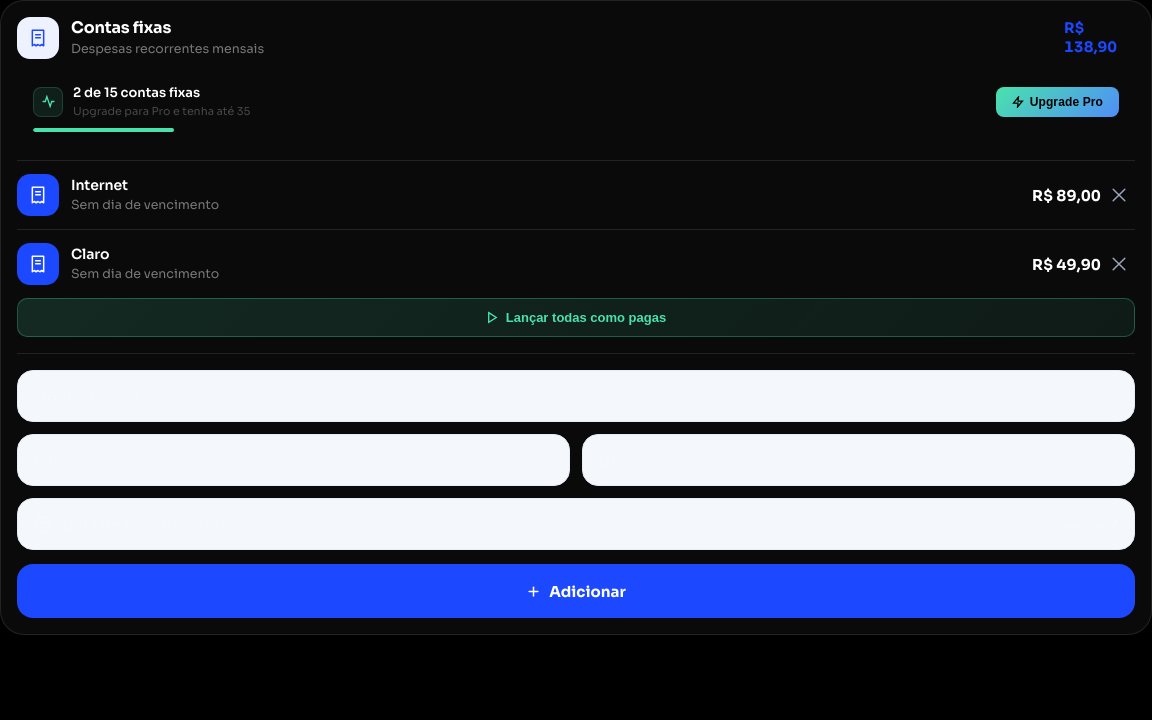
Test case: excluir conta fixa › Esc fecha a confirmação sem remover
expect the text "Claro" is shown: met, box [71,245,109,263]
Click the 1st button named "Remover" at (1119, 195), box [1103,174,1135,216]
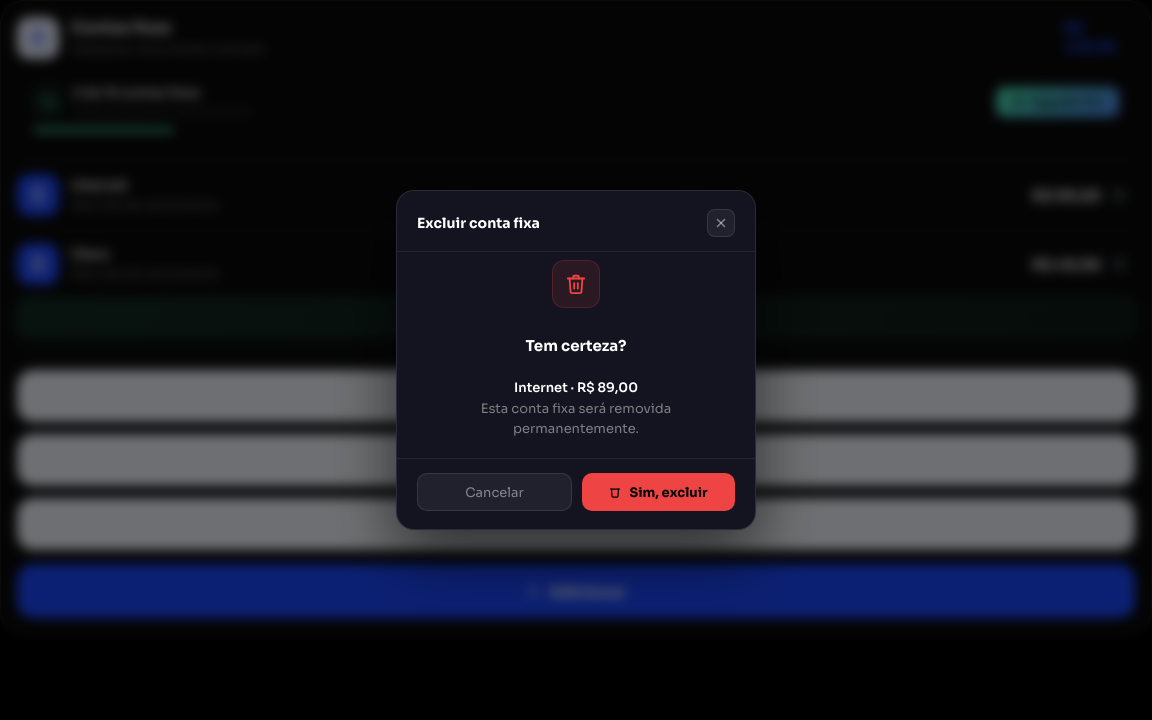
Press Escape
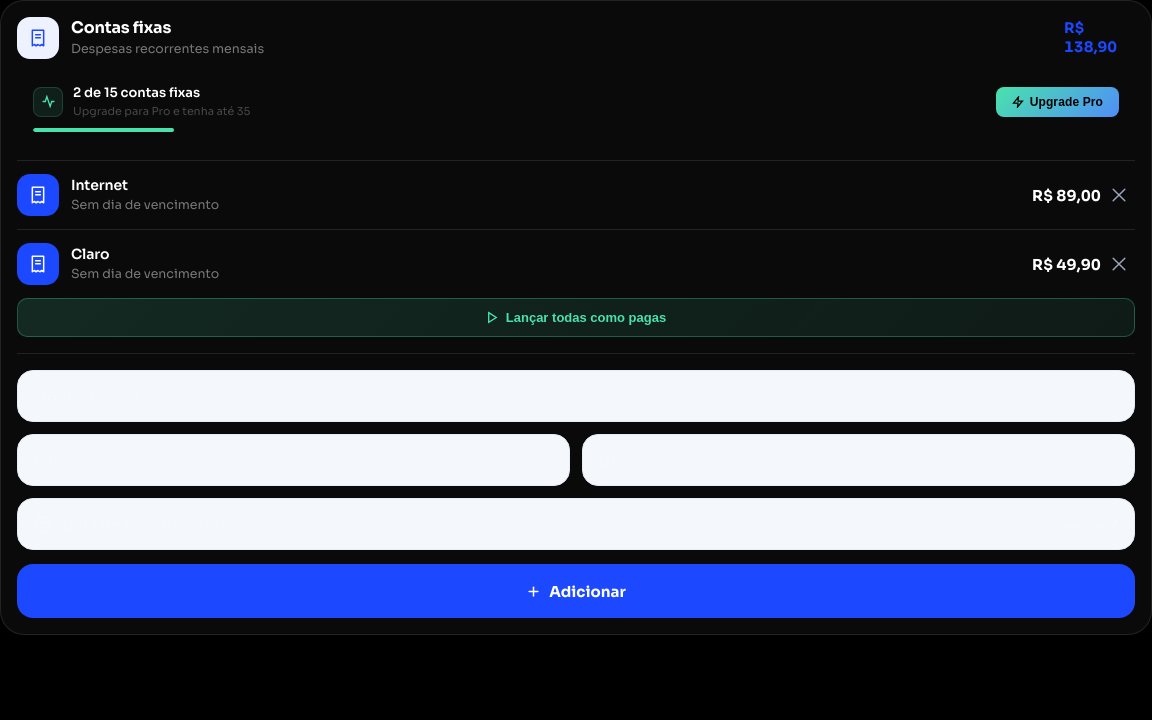
expect the text "Excluir conta fixa" is gone: met
